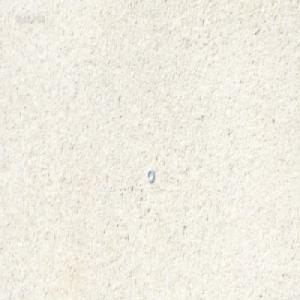Washer: (147, 168, 155, 183)
